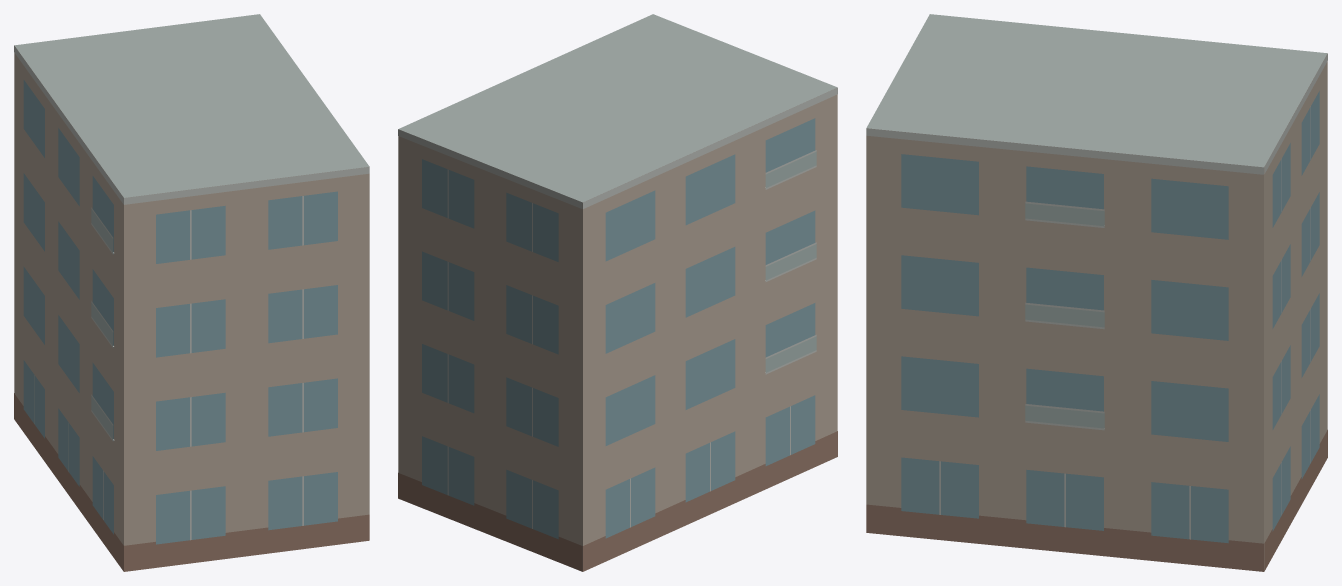
Rendered from survey-upis-32831167.glb.
3 views of the same model, side by side, from view 1: azimuth 30°, elevation 25°; view 2: azimuth 150°, elevation 25°; view 3: azimuth 270°, elevation 25° (orthographic). The views are drawn at different scales.
Visible parts, largest first — view 1: survey-upis-32831167.tmp; view 2: survey-upis-32831167.tmp; view 3: survey-upis-32831167.tmp.
Part boxes in pixels (x1=…): survey-upis-32831167.tmp: x1=14, y1=14, x2=369, y2=571; survey-upis-32831167.tmp: x1=398, y1=14, x2=837, y2=571; survey-upis-32831167.tmp: x1=866, y1=14, x2=1327, y2=571.
Size of the model in its own units: 10.74 by 13.2 by 13.66.
